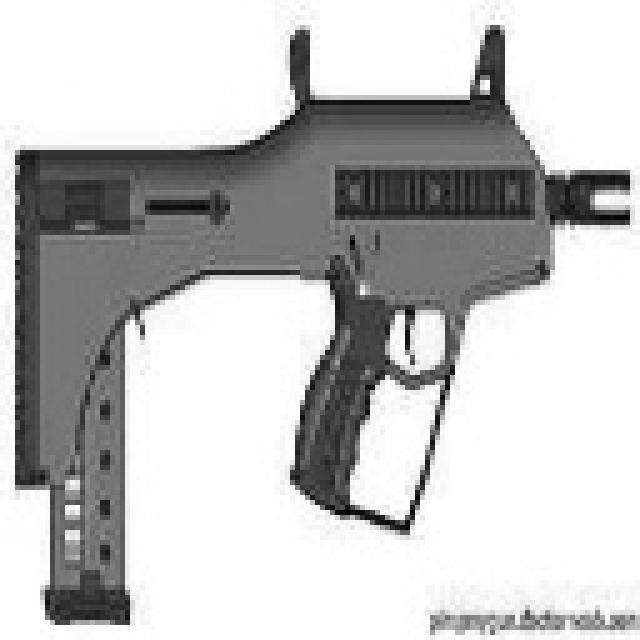Rifle: (0, 16, 621, 640)
